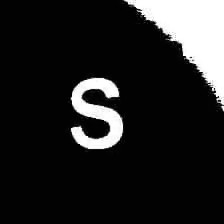LTR_S: (67, 74, 128, 151)
